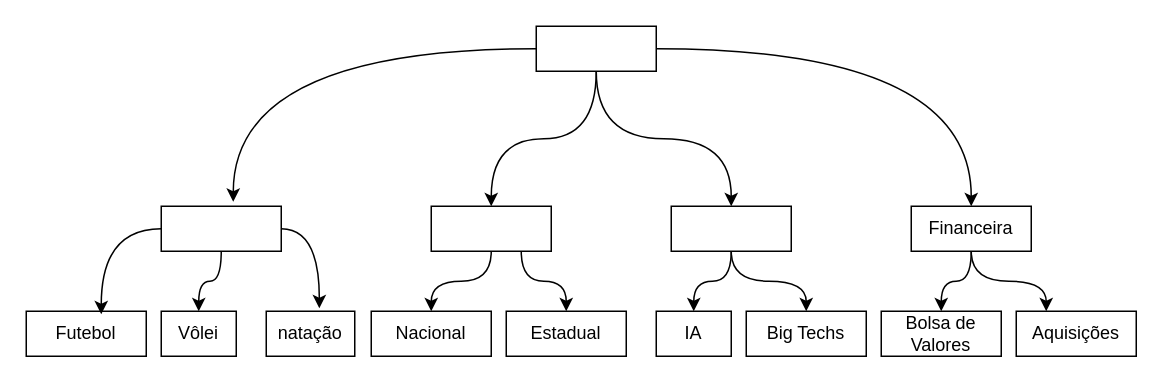
The diagram is 1163 pixels wide and 383 high, and some of its shapes have lost their labels. Here are the shapes that lost their labels. From the top down, the centre of each, then its label:
(x=595, y=48): Notícias
(x=220, y=228): Esporte
(x=490, y=228): Política
(x=730, y=228): Tecnologia
